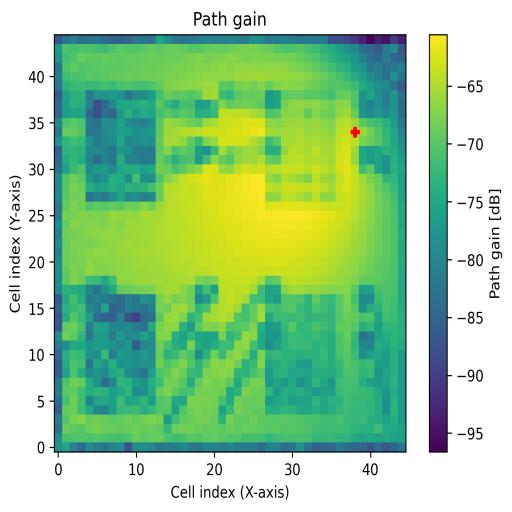Concrete: (266, 90, 336, 202)
Glass: (86, 90, 156, 202)
Metal: (266, 294, 336, 416)
Wood: (86, 295, 156, 415)
